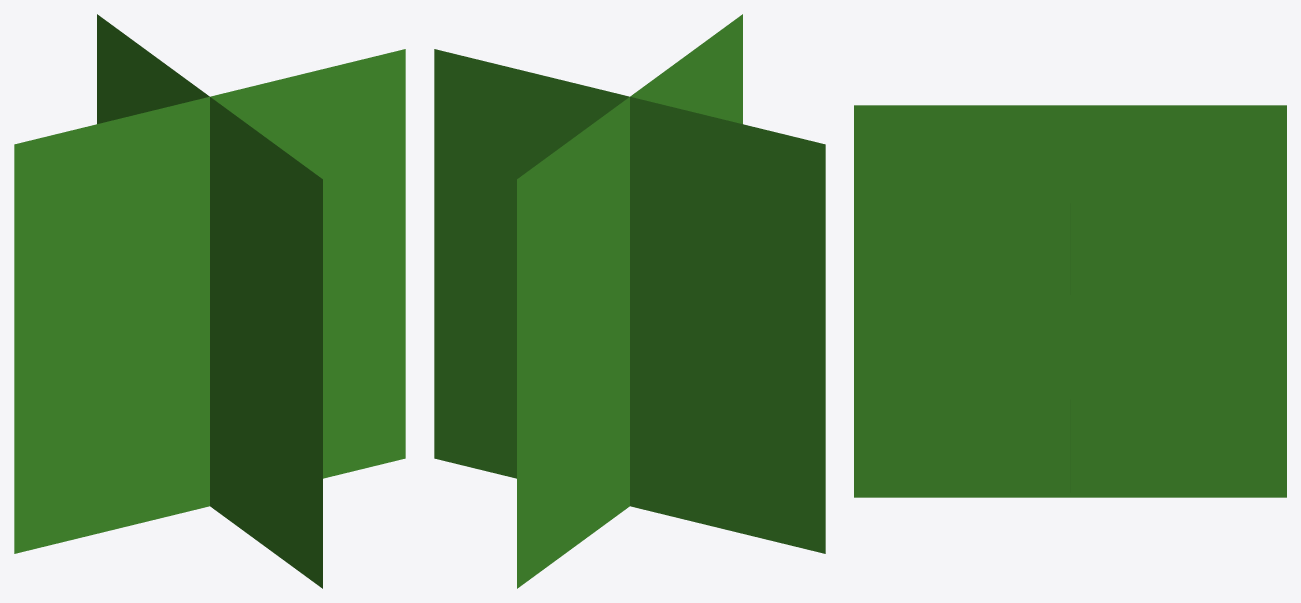
File: tree2.FBX
The picture shows the model from 3 angles, left to right: view 1: azimuth 30°, elevation 25°; view 2: azimuth 150°, elevation 25°; view 3: azimuth 270°, elevation 25°; orthographic projection. The views are drawn at different scales.
Parts seen in each view (by area): view 1: Trees3, Trees4; view 2: Trees3, Trees4; view 3: Trees4.
Boxes of the visible parts, x1,y1,x2,y2 form: Trees3: (14, 49, 405, 553); Trees4: (97, 14, 322, 588); Trees3: (434, 49, 825, 553); Trees4: (517, 14, 742, 588); Trees4: (854, 105, 1286, 497).
Size of the model in its own units: 2 by 2 by 2.
